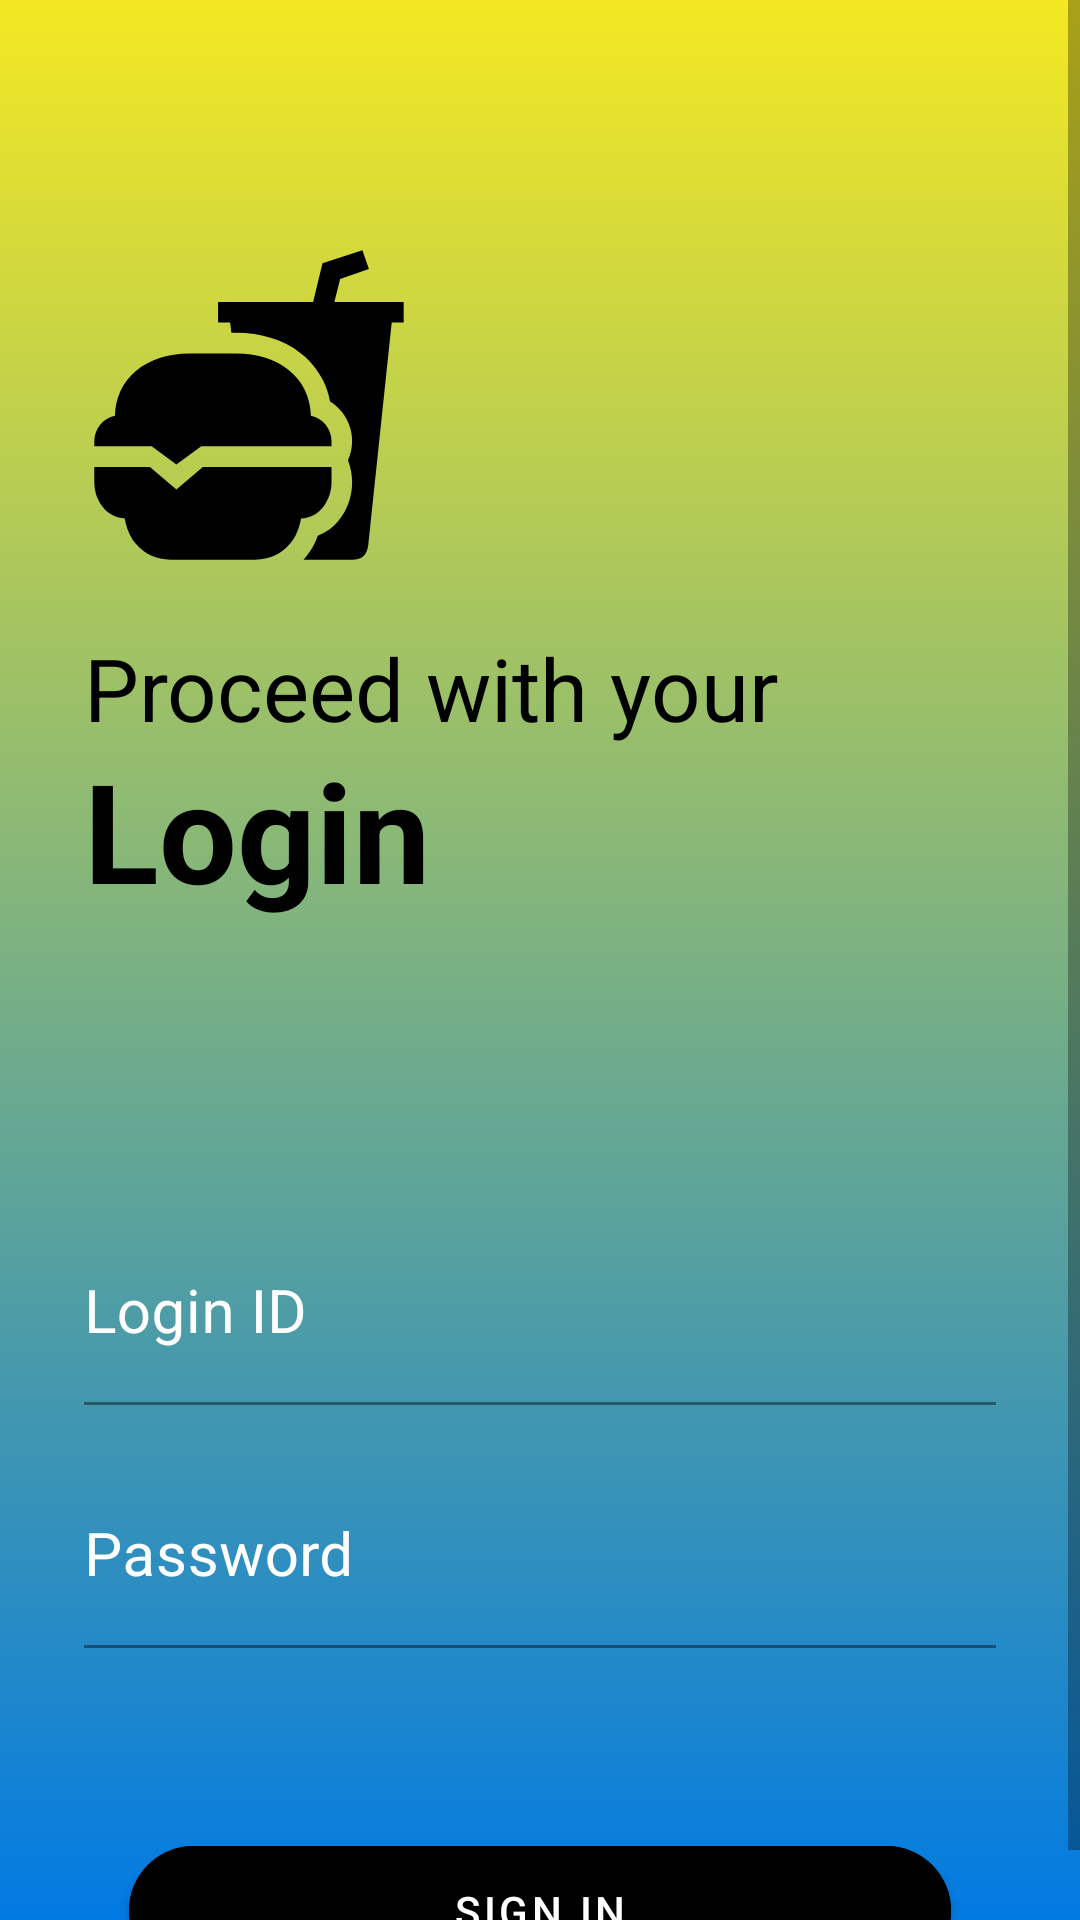

Where to tap for icons on this 1080 × 1920 app screen, as (x=x, y=y):
ion fast food sharp: (x=249, y=405)
